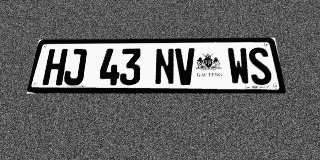3: (119, 48, 141, 85)
4: (98, 48, 121, 85)
H: (42, 49, 68, 85)
J: (62, 49, 87, 85)
N: (154, 48, 175, 85)
S: (247, 47, 273, 85)
V: (175, 48, 196, 85)
W: (227, 48, 252, 85)
